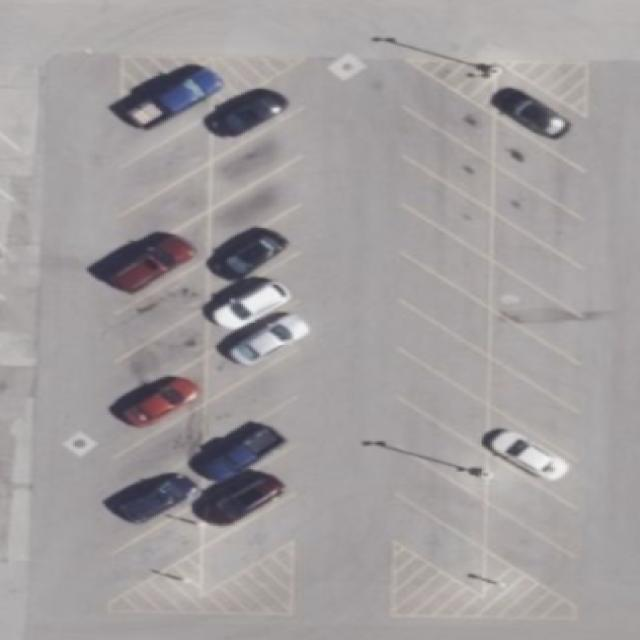Empty: (117, 112, 216, 219), (390, 444, 489, 549), (393, 399, 490, 503), (202, 350, 295, 458), (399, 348, 490, 454), (493, 164, 584, 269), (392, 495, 486, 596), (490, 359, 582, 462), (489, 310, 581, 413), (118, 258, 209, 362), (400, 299, 490, 404), (110, 405, 204, 505), (492, 213, 583, 316), (406, 108, 495, 213), (492, 262, 582, 365), (494, 115, 583, 219), (403, 252, 490, 358), (109, 503, 203, 601), (210, 158, 303, 257), (487, 504, 577, 606), (201, 497, 294, 595), (118, 164, 211, 261), (118, 305, 207, 406), (404, 207, 492, 309), (210, 112, 301, 210), (488, 454, 575, 556), (407, 62, 494, 163), (406, 160, 492, 260)
Parked: (105, 66, 221, 170), (204, 300, 300, 403), (206, 253, 301, 353), (209, 204, 302, 305), (488, 406, 577, 510), (108, 461, 204, 556), (119, 212, 208, 314), (201, 451, 294, 547), (496, 72, 586, 171), (203, 401, 295, 494), (122, 355, 205, 454), (210, 78, 303, 161)
